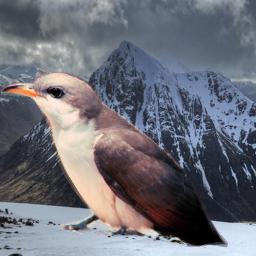Cuckoo: (1, 72, 228, 248)
